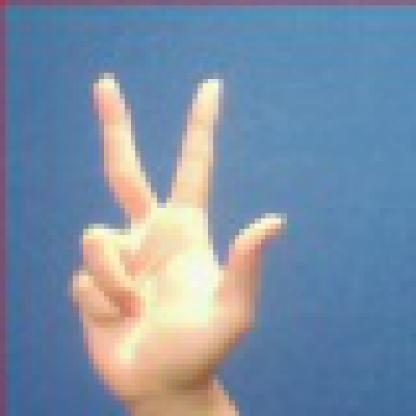eight: (36, 52, 307, 411)
